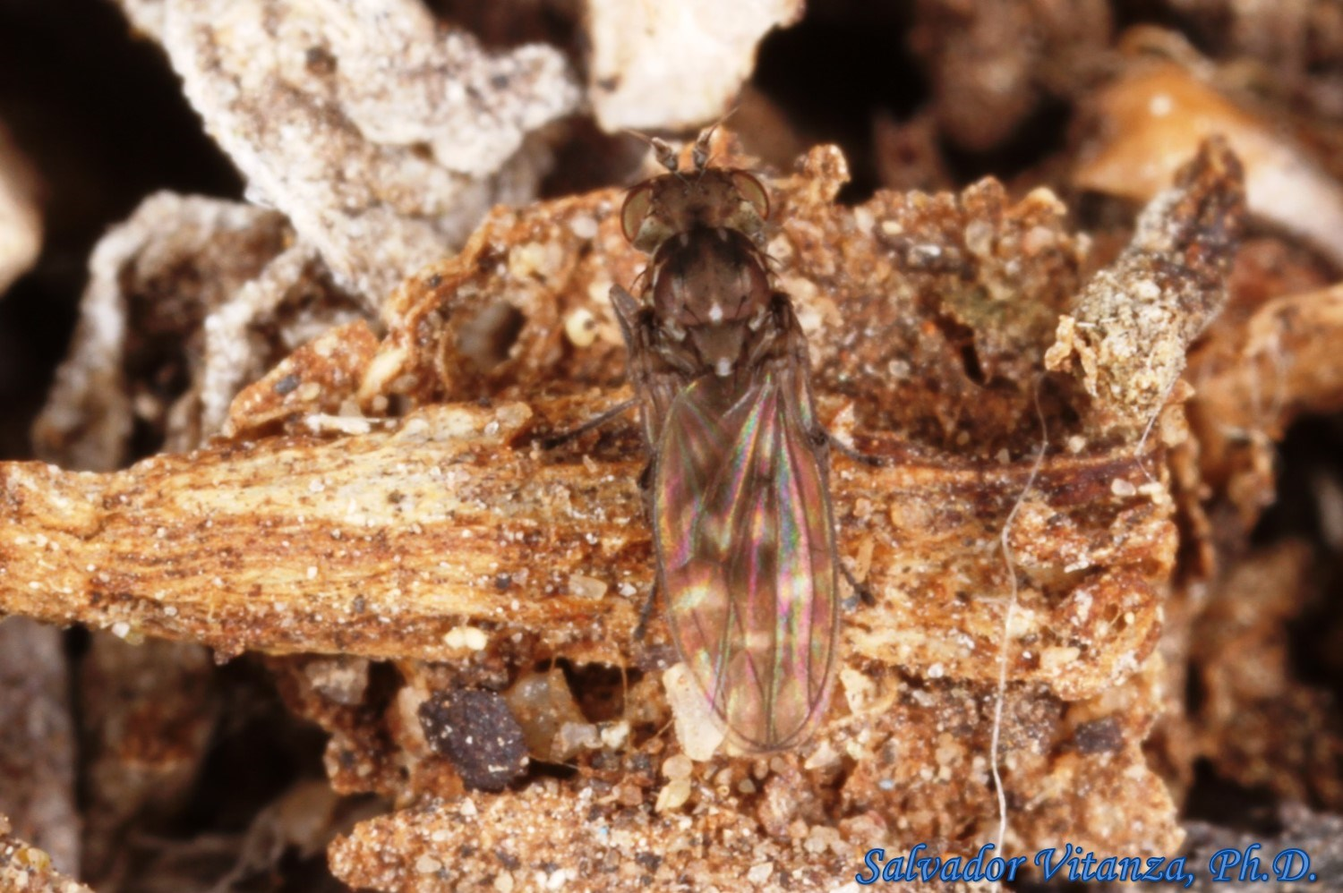Ephydridae: (522, 106, 880, 763)
